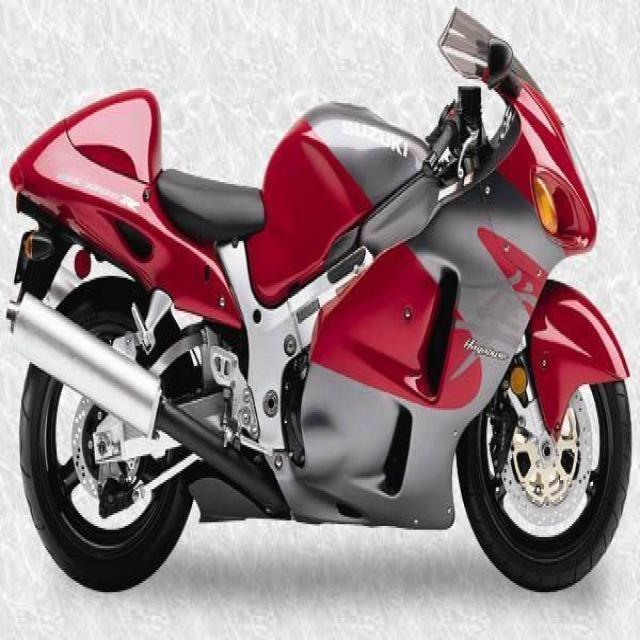Motorcycle: (8, 34, 636, 599)
